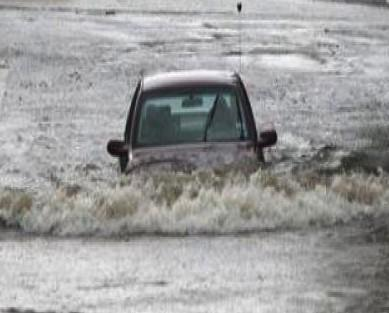water: (0, 0, 388, 311)
